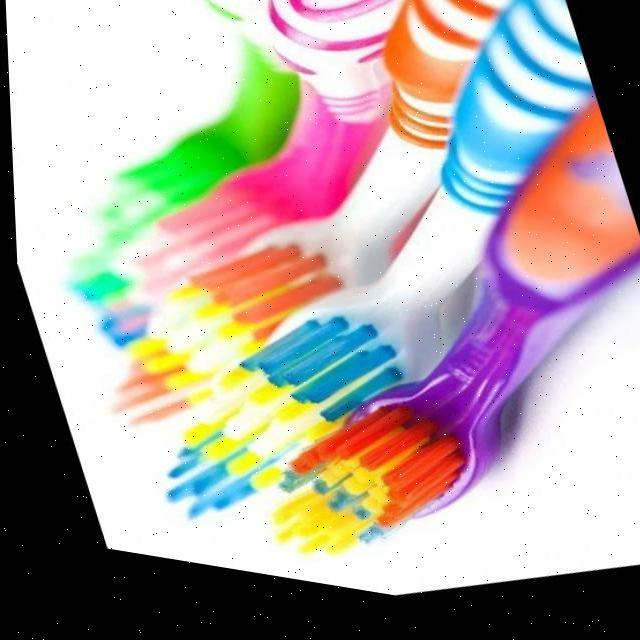toothbrush: (606, 0, 640, 364), (624, 0, 640, 440), (618, 0, 640, 228), (638, 1, 640, 128)
